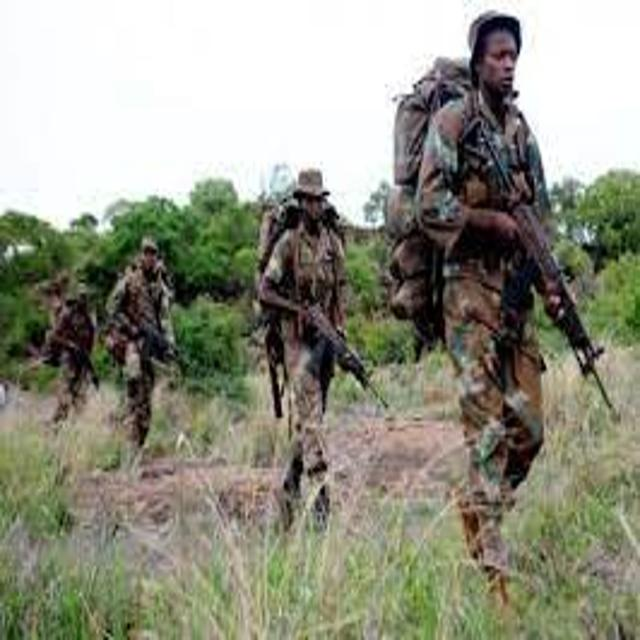backpack: (363, 47, 508, 372), (225, 188, 315, 389)
gun: (445, 106, 631, 453), (249, 279, 409, 437), (91, 283, 203, 392), (38, 311, 109, 401)
ranger: (347, 1, 629, 600), (221, 149, 397, 546), (76, 216, 209, 469), (15, 269, 131, 447)
